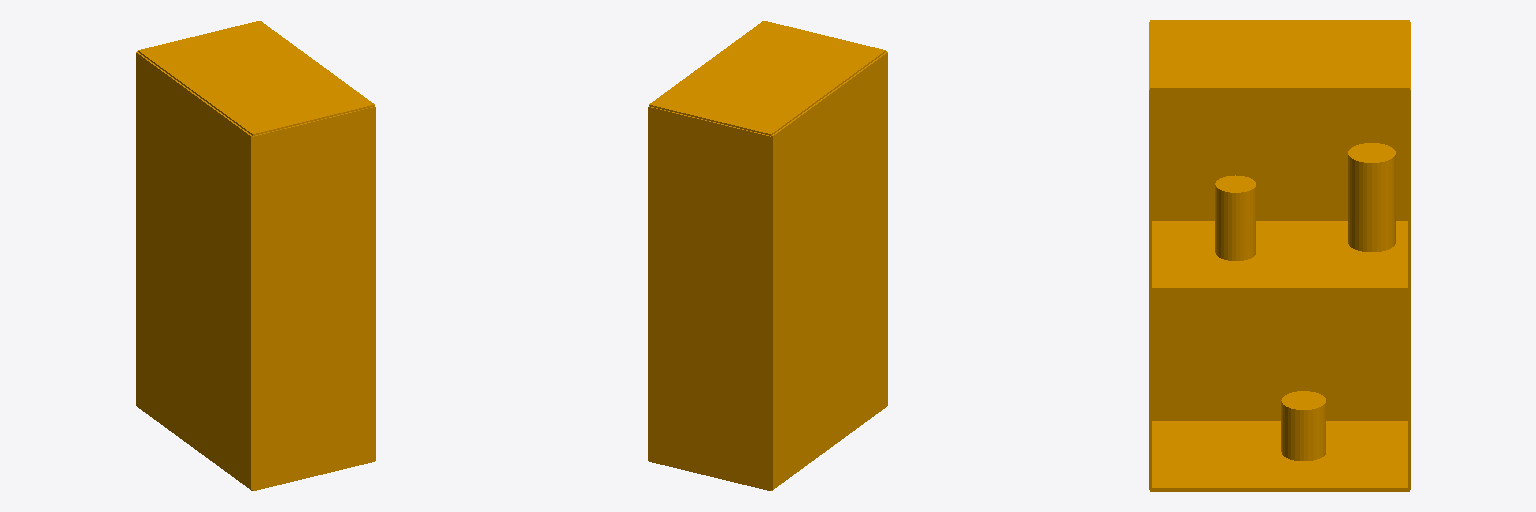
URDF robot description (syn_can_cabinet_2029):
<?xml version="1.0" ?>
<robot name="syn_can_cabinet_2029">
    <link concave="yes" name="base_link">
        <inertial>
            <origin rpy="0 0 0" xyz="0 0 0"/>
            <mass value="0.0"/>
            <inertia ixx="1e-08" ixy="0" ixz="0" iyy="1e-08" iyz="0" izz="1e-08"/>
        </inertial>
        <visual>
            <origin xyz="0 0 0" rpy="0 0 0" />
            <geometry>
                <mesh filename="syn_can_cabinet_2029.obj" scale="1.000000 1.000000 1.000000"/>
            </geometry>         
        </visual>

        <collision concave="yes">
            <origin xyz="0 0 0" rpy="0 0 0"/>
            <geometry>
                <mesh filename="syn_can_cabinet_2029.obj" scale="1.000000 1.000000 1.000000"/>
            </geometry>
        </collision>
    </link>
</robot>
    

--- Render facts (derived) ---
The picture shows the robot from 3 angles, left to right: view 1: azimuth 30°, elevation 25°; view 2: azimuth 150°, elevation 25°; view 3: azimuth 270°, elevation 25°; orthographic projection.
Robot: syn_can_cabinet_2029 — 1 links, 0 joints (none); root link base_link; default pose: every joint at zero.
Visible links, largest first — view 1: base_link; view 2: base_link; view 3: base_link.
Link boxes in pixels (<box>): base_link: <box>136,21,375,490</box>; base_link: <box>648,21,887,490</box>; base_link: <box>1149,20,1410,491</box>.
Bounding box of the posed robot: 0.2061 × 0.3349 × 0.5679 m (x, y, z).
Meshes: 1 distinct files referenced, 1 mesh visuals loaded (1 OBJ).
